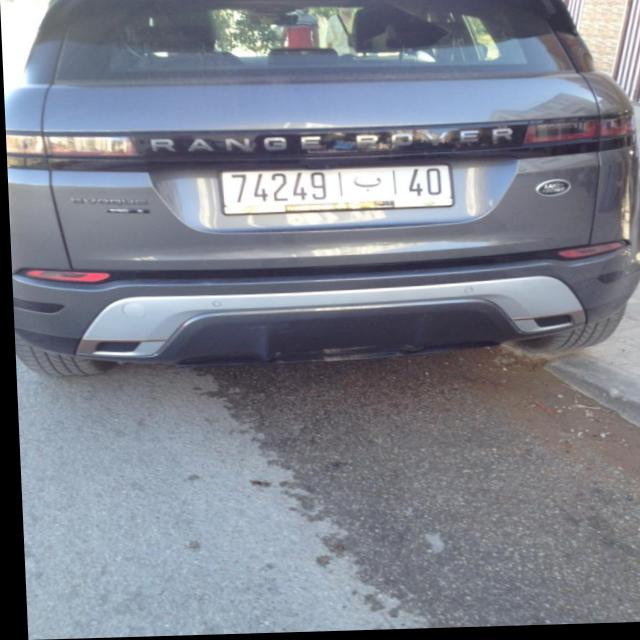License-Plate: (218, 167, 452, 216)
